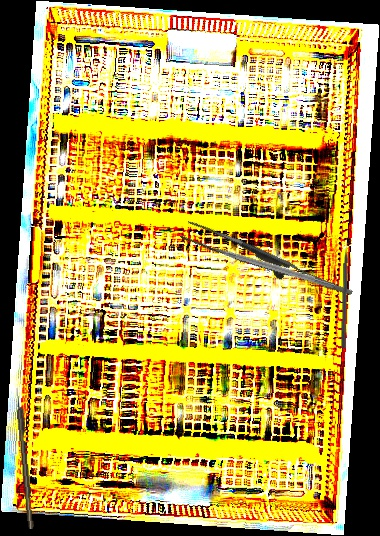Hook Surgical: (204, 242, 337, 290), (14, 387, 35, 530)
Pusher: (340, 235, 351, 349)
Tissue Forceps: (179, 204, 354, 324)
